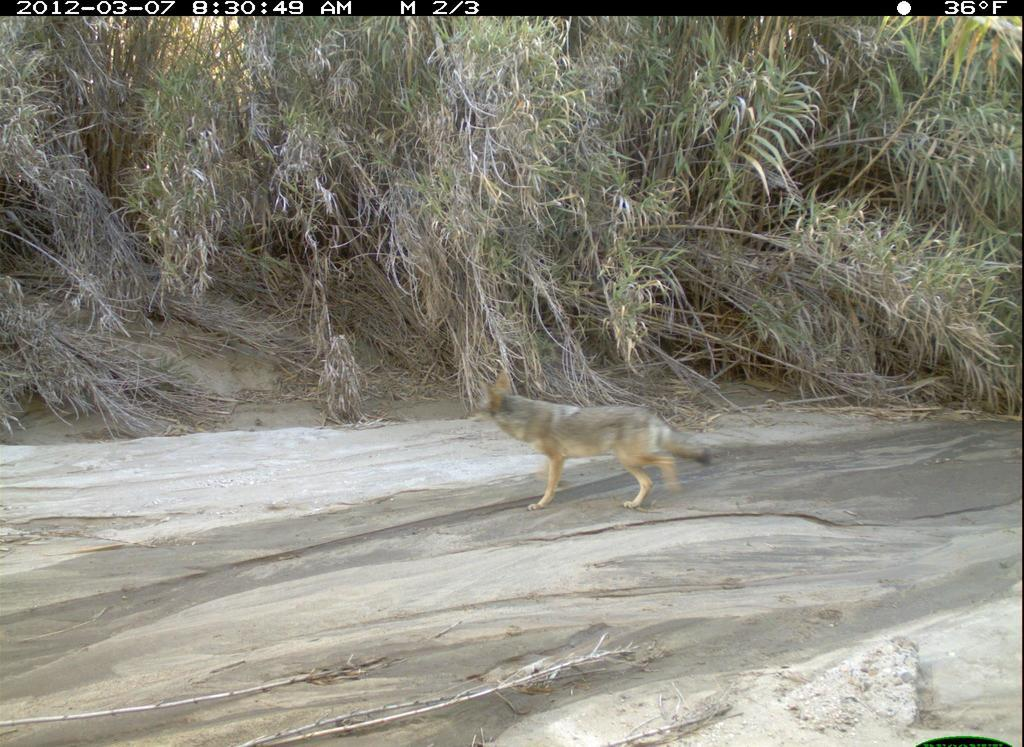coyote: (464, 364, 724, 513)
